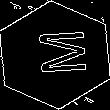M_W: (25, 30, 85, 80)
